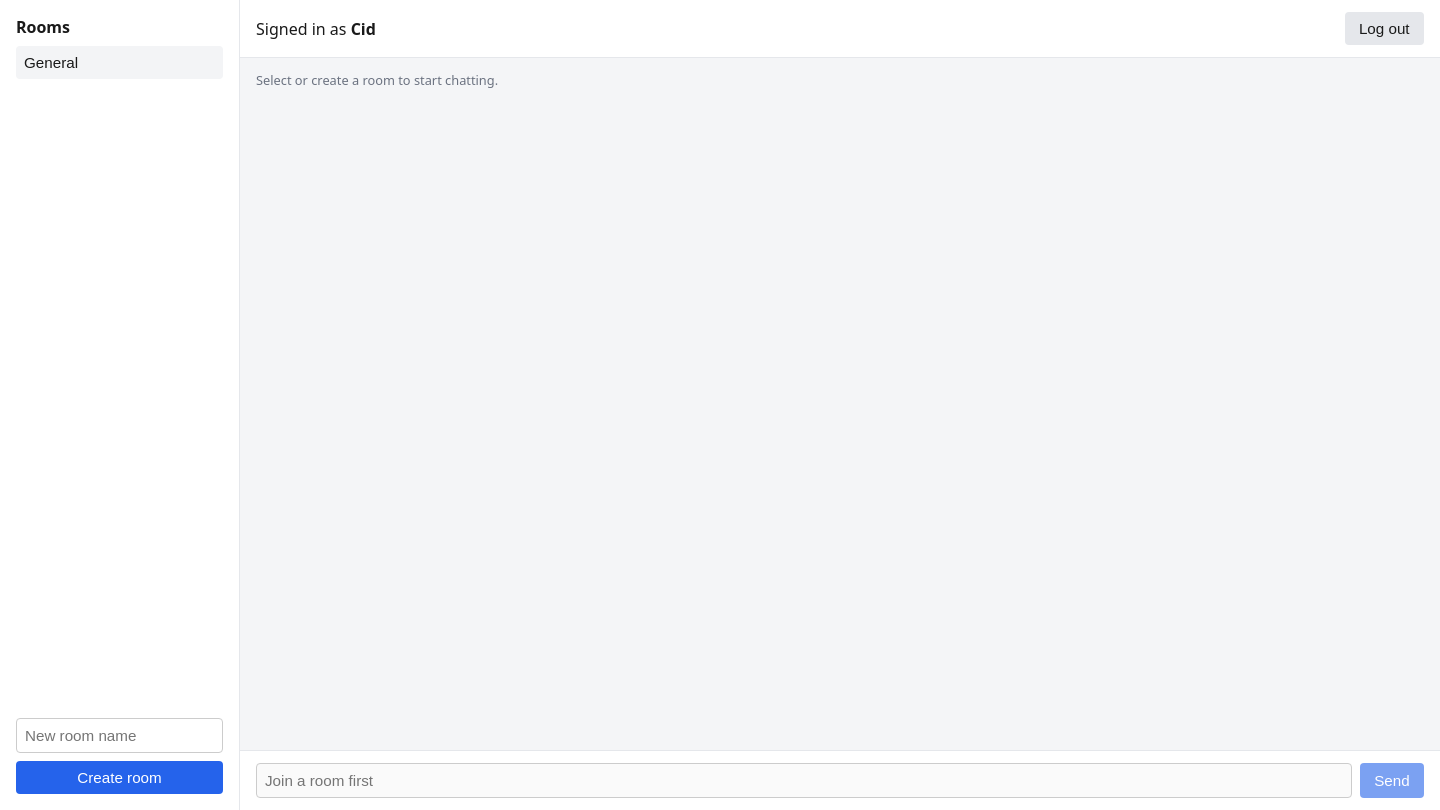
it: ChatPage › shows exactly one entry when the create POST resolves before RoomCreated arrives
Check: the button "General" is shown, box top-left (16, 46), bottom-right (223, 79)
Type "Random" into the field with placeholder "New room name" at coordinates (120, 736), box top-left (16, 718), bottom-right (223, 753)
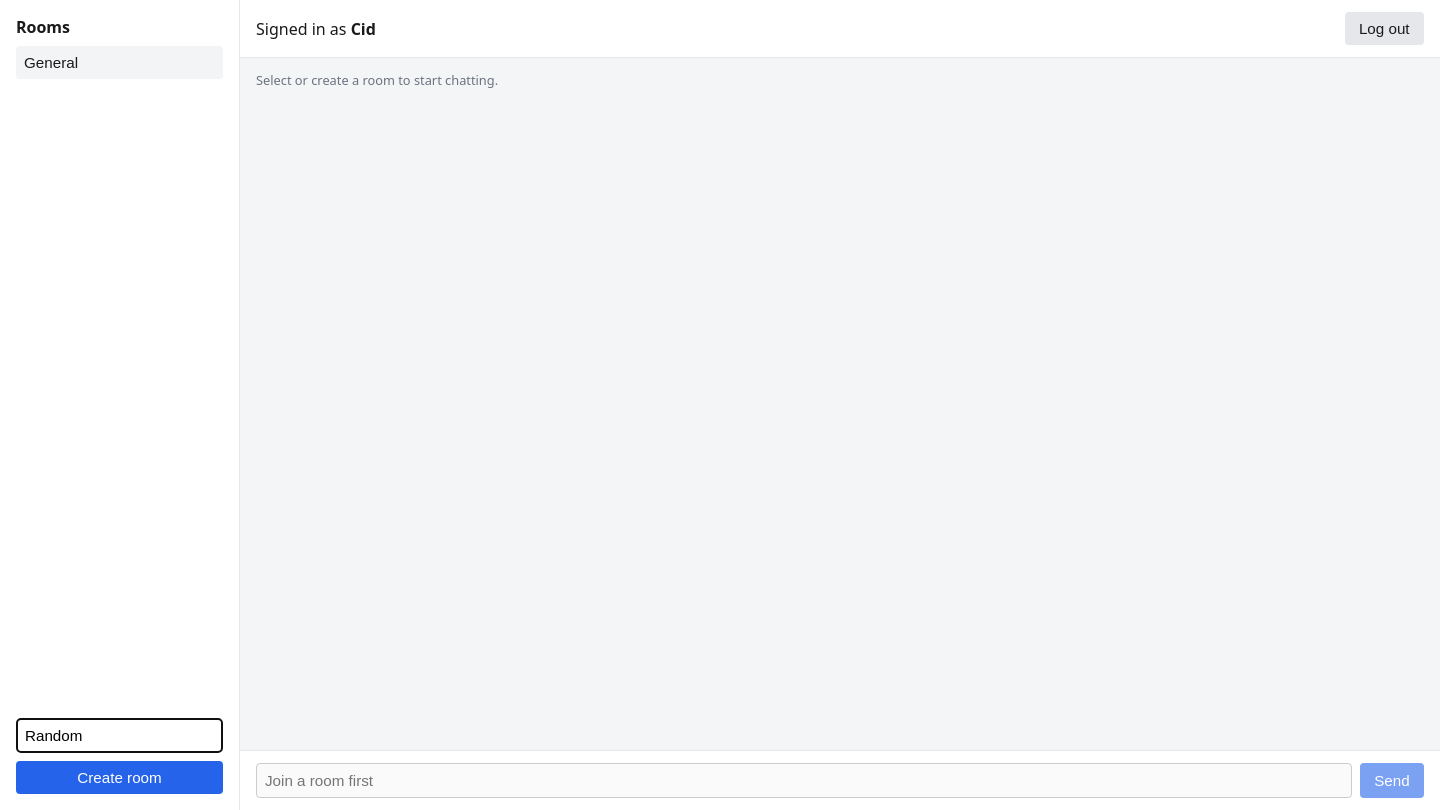
Click the button "Create room" at coordinates (120, 778), box top-left (16, 761), bottom-right (223, 794)
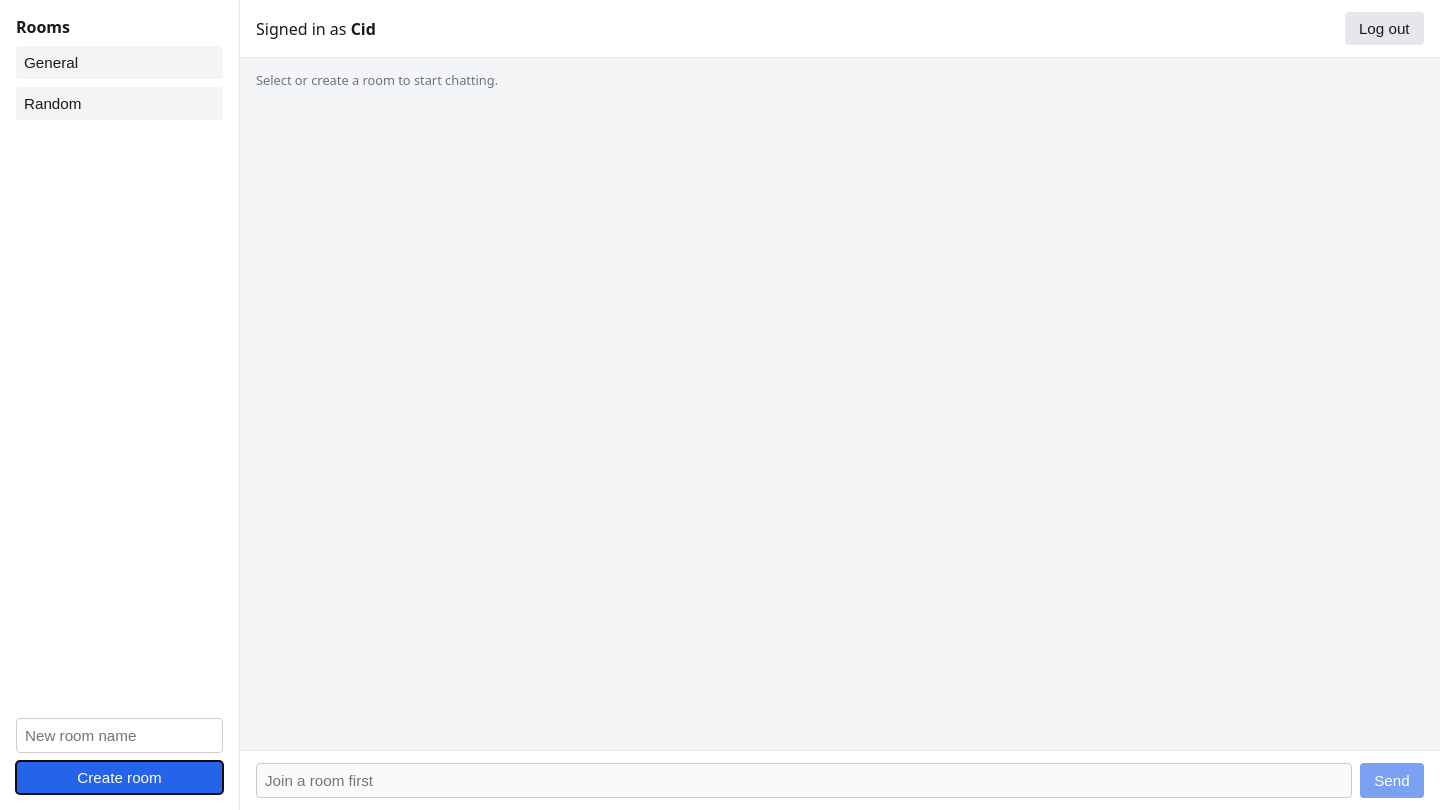
Check: the number of buttons "Random" is 1, box top-left (16, 87), bottom-right (223, 120)
